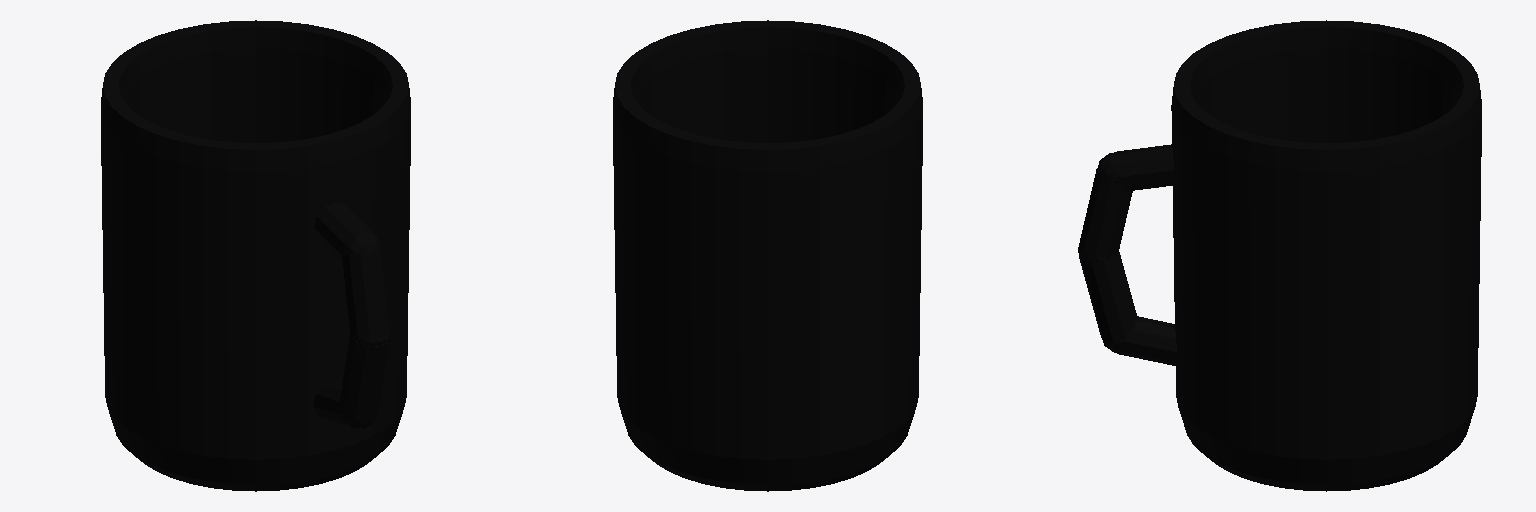
URDF robot description (nova_environment_object_0318):
<?xml version="1.0" encoding="utf-8"?>
<!-- Nova movable environment body for the bundled PyBullet launcher. SI metres/kg/radians. Loaded at its body origin; hinge/slider bodies use a fixed world_anchor base with one passive joint. Inertia is about COM. -->
<robot name="nova_environment_object_0318">
  <link name="body">
    <inertial>
      <origin xyz="0 -0.003 0.035" rpy="0 0 0" />
      <mass value="0.18" />
      <inertia ixx="0.000160395" iyy="0.000160395" izz="0.000145656" ixy="0" ixz="0" iyz="0" />
    </inertial>
    <visual>
      <origin xyz="0 0 0" rpy="0 0 0" />
      <geometry>
        <mesh filename="object_0318.obj" />
      </geometry>
      <material name="surface">
        <color rgba="0.07 0.07 0.07 1" />
      </material>
    </visual>
    <collision>
      <origin xyz="0 0 0" rpy="0 0 0" />
      <geometry>
        <mesh filename="object_0318_collision_00.obj" />
      </geometry>
    </collision>
    <collision>
      <origin xyz="0 0 0" rpy="0 0 0" />
      <geometry>
        <mesh filename="object_0318_collision_01.obj" />
      </geometry>
    </collision>
    <collision>
      <origin xyz="0 0 0" rpy="0 0 0" />
      <geometry>
        <mesh filename="object_0318_collision_02.obj" />
      </geometry>
    </collision>
    <collision>
      <origin xyz="0 0 0" rpy="0 0 0" />
      <geometry>
        <mesh filename="object_0318_collision_03.obj" />
      </geometry>
    </collision>
    <collision>
      <origin xyz="0 0 0" rpy="0 0 0" />
      <geometry>
        <mesh filename="object_0318_collision_04.obj" />
      </geometry>
    </collision>
    <collision>
      <origin xyz="0 0 0" rpy="0 0 0" />
      <geometry>
        <mesh filename="object_0318_collision_05.obj" />
      </geometry>
    </collision>
    <collision>
      <origin xyz="0 0 0" rpy="0 0 0" />
      <geometry>
        <mesh filename="object_0318_collision_06.obj" />
      </geometry>
    </collision>
    <collision>
      <origin xyz="0 0 0" rpy="0 0 0" />
      <geometry>
        <mesh filename="object_0318_collision_07.obj" />
      </geometry>
    </collision>
    <collision>
      <origin xyz="0 0 0" rpy="0 0 0" />
      <geometry>
        <mesh filename="object_0318_collision_08.obj" />
      </geometry>
    </collision>
    <collision>
      <origin xyz="0 0 0" rpy="0 0 0" />
      <geometry>
        <mesh filename="object_0318_collision_09.obj" />
      </geometry>
    </collision>
  </link>
</robot>

--- Facts derived from the render (not from the file) ---
3 views of the same robot in one strip: view 1: azimuth 30°, elevation 25°; view 2: azimuth 150°, elevation 25°; view 3: azimuth 270°, elevation 25° (orthographic).
Robot: nova_environment_object_0318 — 1 links, 0 joints (none); root link body; default pose: all joints at 0.
Links seen in each view (by area): view 1: body; view 2: body; view 3: body.
Boxes of the visible links, <box> form: body: <box>101,20,410,491</box>; body: <box>613,20,922,491</box>; body: <box>1078,20,1481,491</box>.
Bounding box of the posed robot: 0.068 × 0.0885 × 0.085 m (x, y, z).
1 mesh visuals loaded from 1 distinct referenced files (1 OBJ).
